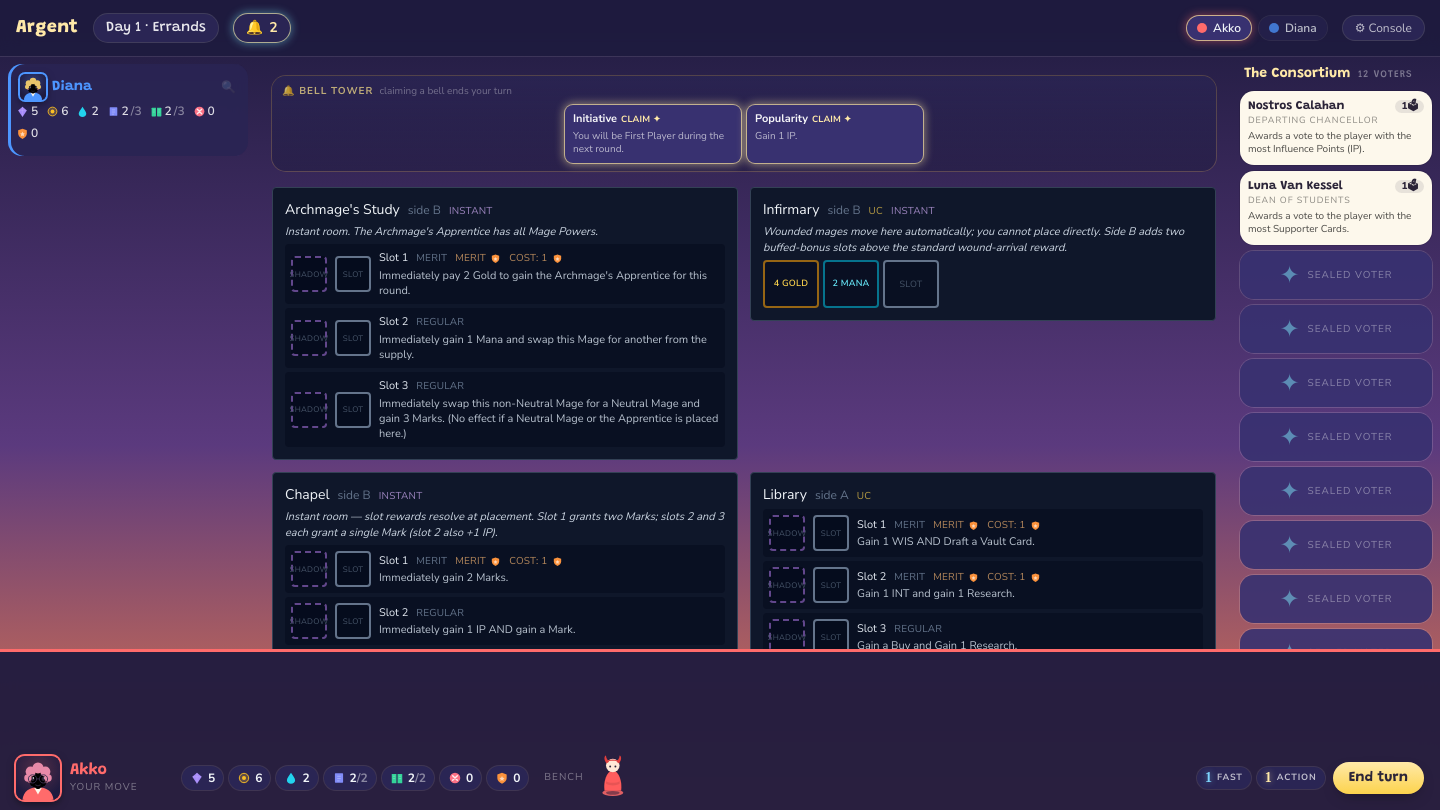
Test: Opponent inspector (quick-reference smoke) › opens a rival full tableau on click, shows discard counts only, and closes on Return
The image size is (1440, 810).
Click the rival panel header in the left rail.
Step 1. Click the button titled "Review full tableau" → click(128, 87), box [16, 72, 240, 102]
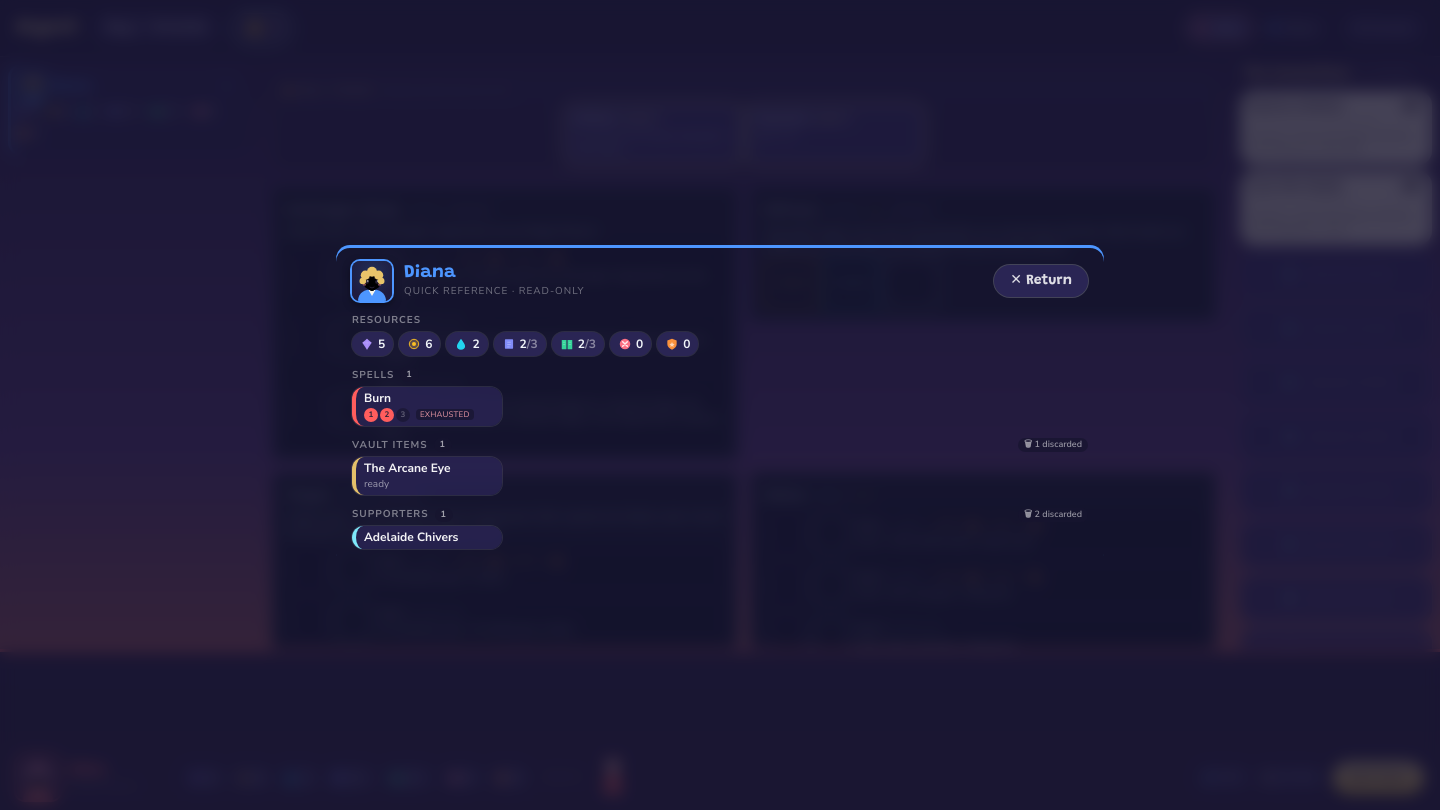
Expected: the text "quick reference · read-only" is shown, [404, 284, 584, 299]
Expected: the text "Diana" is shown, [404, 264, 456, 282]
Expected: the text "Burn" is shown, [364, 390, 391, 406]
Return closes it.
Step 2. Click the button "✕ Return" → click(1041, 281), box [994, 265, 1088, 297]
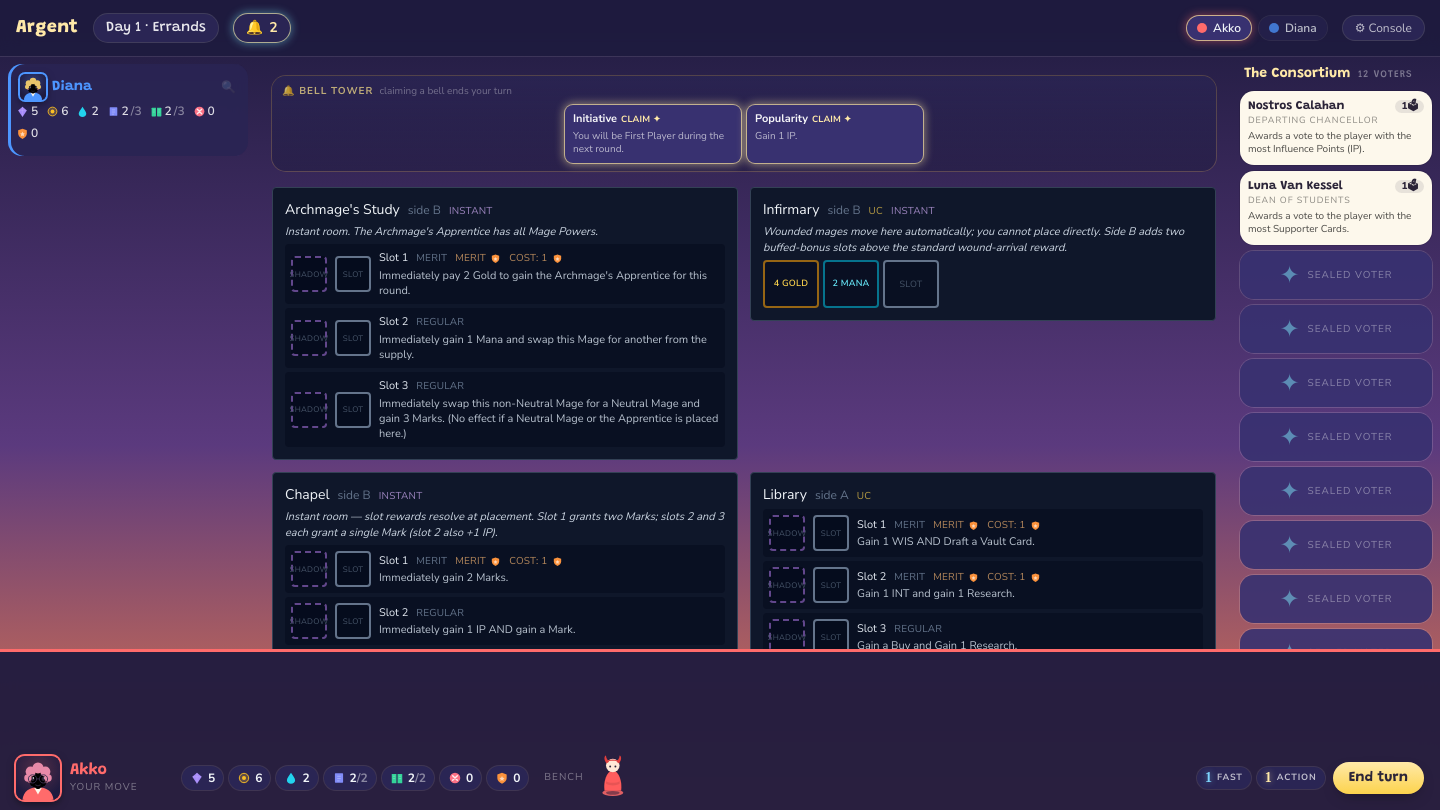
Expected: the element with test id "opponent-inspector" is gone
